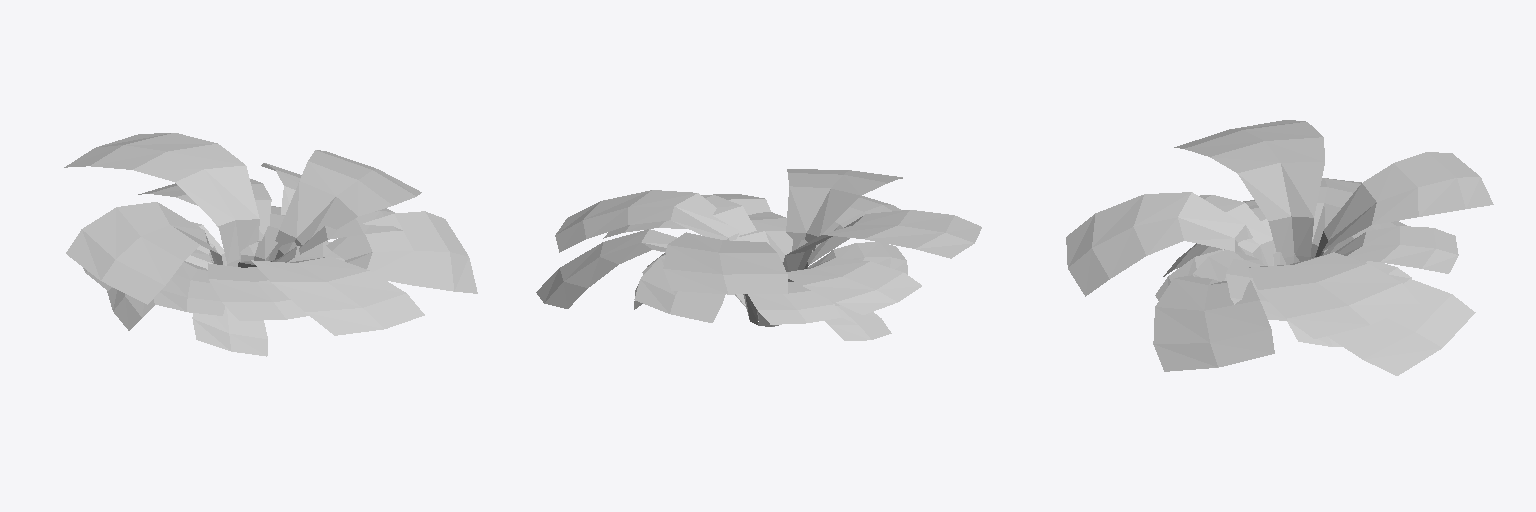
File: fern1.obj
3 renders of one model, left to right at view 1: azimuth 30°, elevation 25°; view 2: azimuth 150°, elevation 25°; view 3: azimuth 270°, elevation 25°, orthographic.
Visible parts, largest first — view 1: fern; view 2: fern; view 3: fern.
Boxes of the visible parts, x1,y1,x2,y2 form: fern: [64, 133, 477, 356]; fern: [536, 169, 981, 340]; fern: [1066, 120, 1493, 375].
Size of the model in its own units: 4.13 by 1.3 by 4.09.